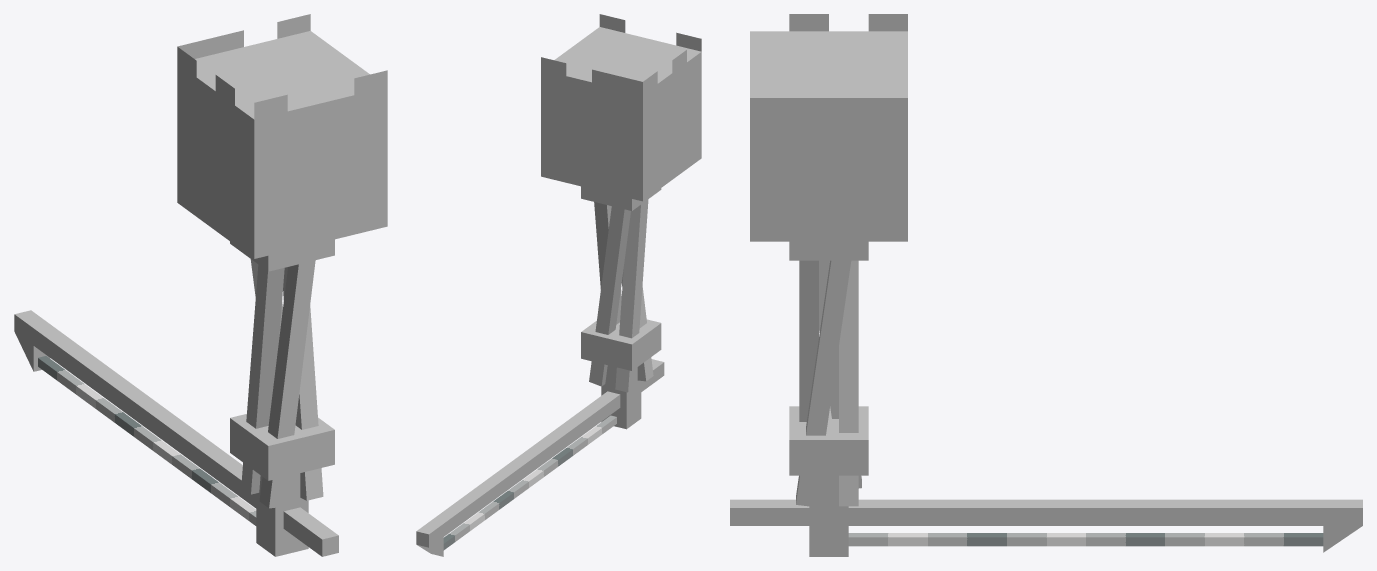
The model's file is arm_fisher_l.obj.
3 views of the same model, side by side, from view 1: azimuth 30°, elevation 25°; view 2: azimuth 150°, elevation 25°; view 3: azimuth 270°, elevation 25° (orthographic). The views are drawn at different scales.
Parts seen in each view (by area): view 1: ARMROUGH_LEFT_FISHING_Cube.387; view 2: ARMROUGH_LEFT_FISHING_Cube.387; view 3: ARMROUGH_LEFT_FISHING_Cube.387.
Boxes of the visible parts, x1=… form: ARMROUGH_LEFT_FISHING_Cube.387: x1=14, y1=14, x2=387, y2=556; ARMROUGH_LEFT_FISHING_Cube.387: x1=416, y1=14, x2=701, y2=556; ARMROUGH_LEFT_FISHING_Cube.387: x1=730, y1=14, x2=1362, y2=556.
Bounding box in the file's own units: 0.25 × 0.8739 × 1.
